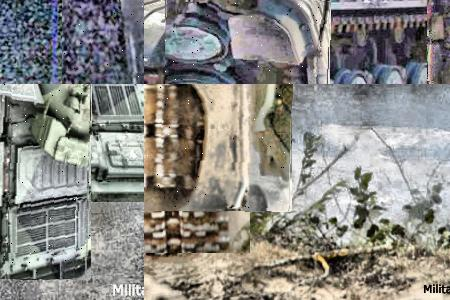tanks: (145, 85, 293, 211), (1, 85, 93, 280), (166, 1, 331, 85), (270, 85, 450, 136), (63, 1, 145, 85)
